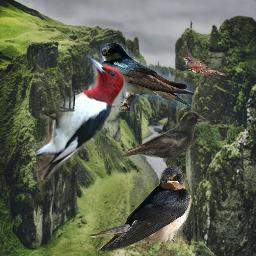Crow: (120, 111, 205, 178)
Cuckoo: (179, 54, 230, 79)
Swallow: (86, 166, 192, 251), (100, 43, 195, 112)
Woodpecker: (26, 52, 132, 186)
